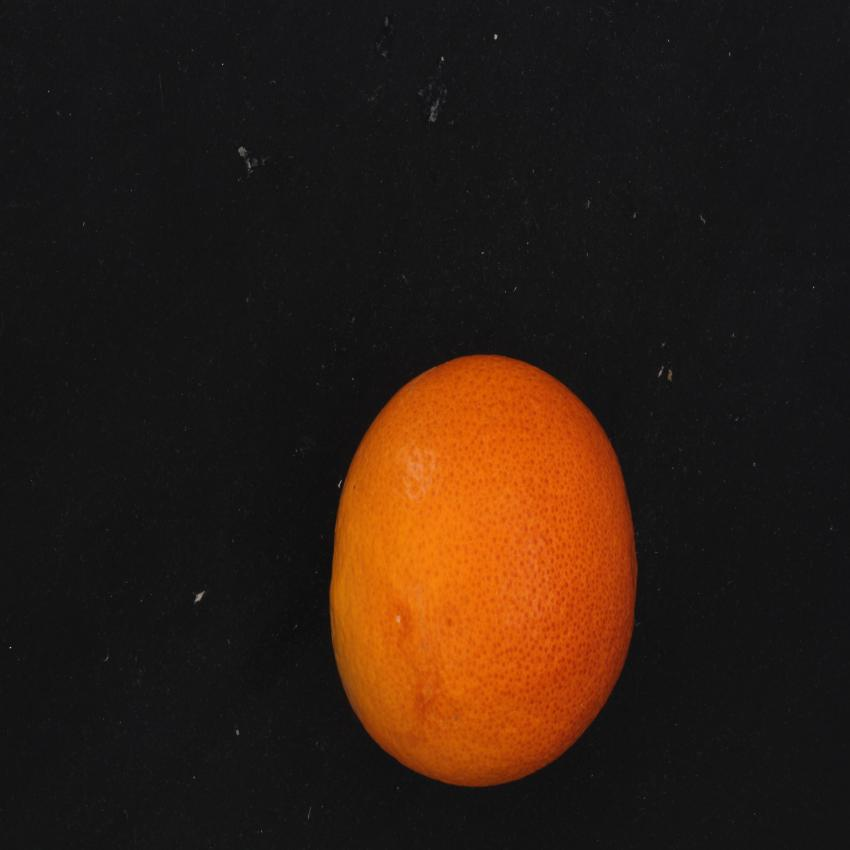Buen estado: (320, 343, 658, 797)
